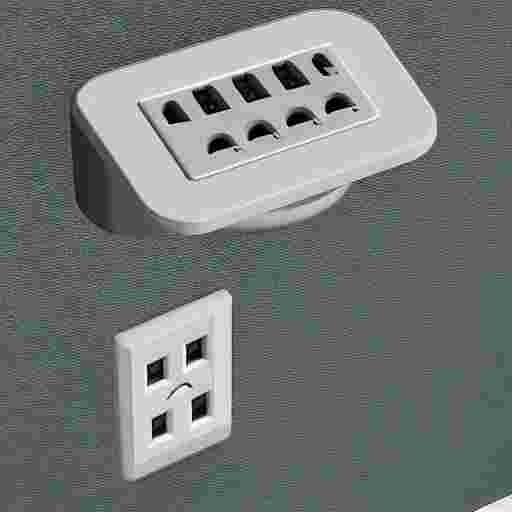power outlet: (76, 10, 436, 234), (114, 290, 231, 480)
